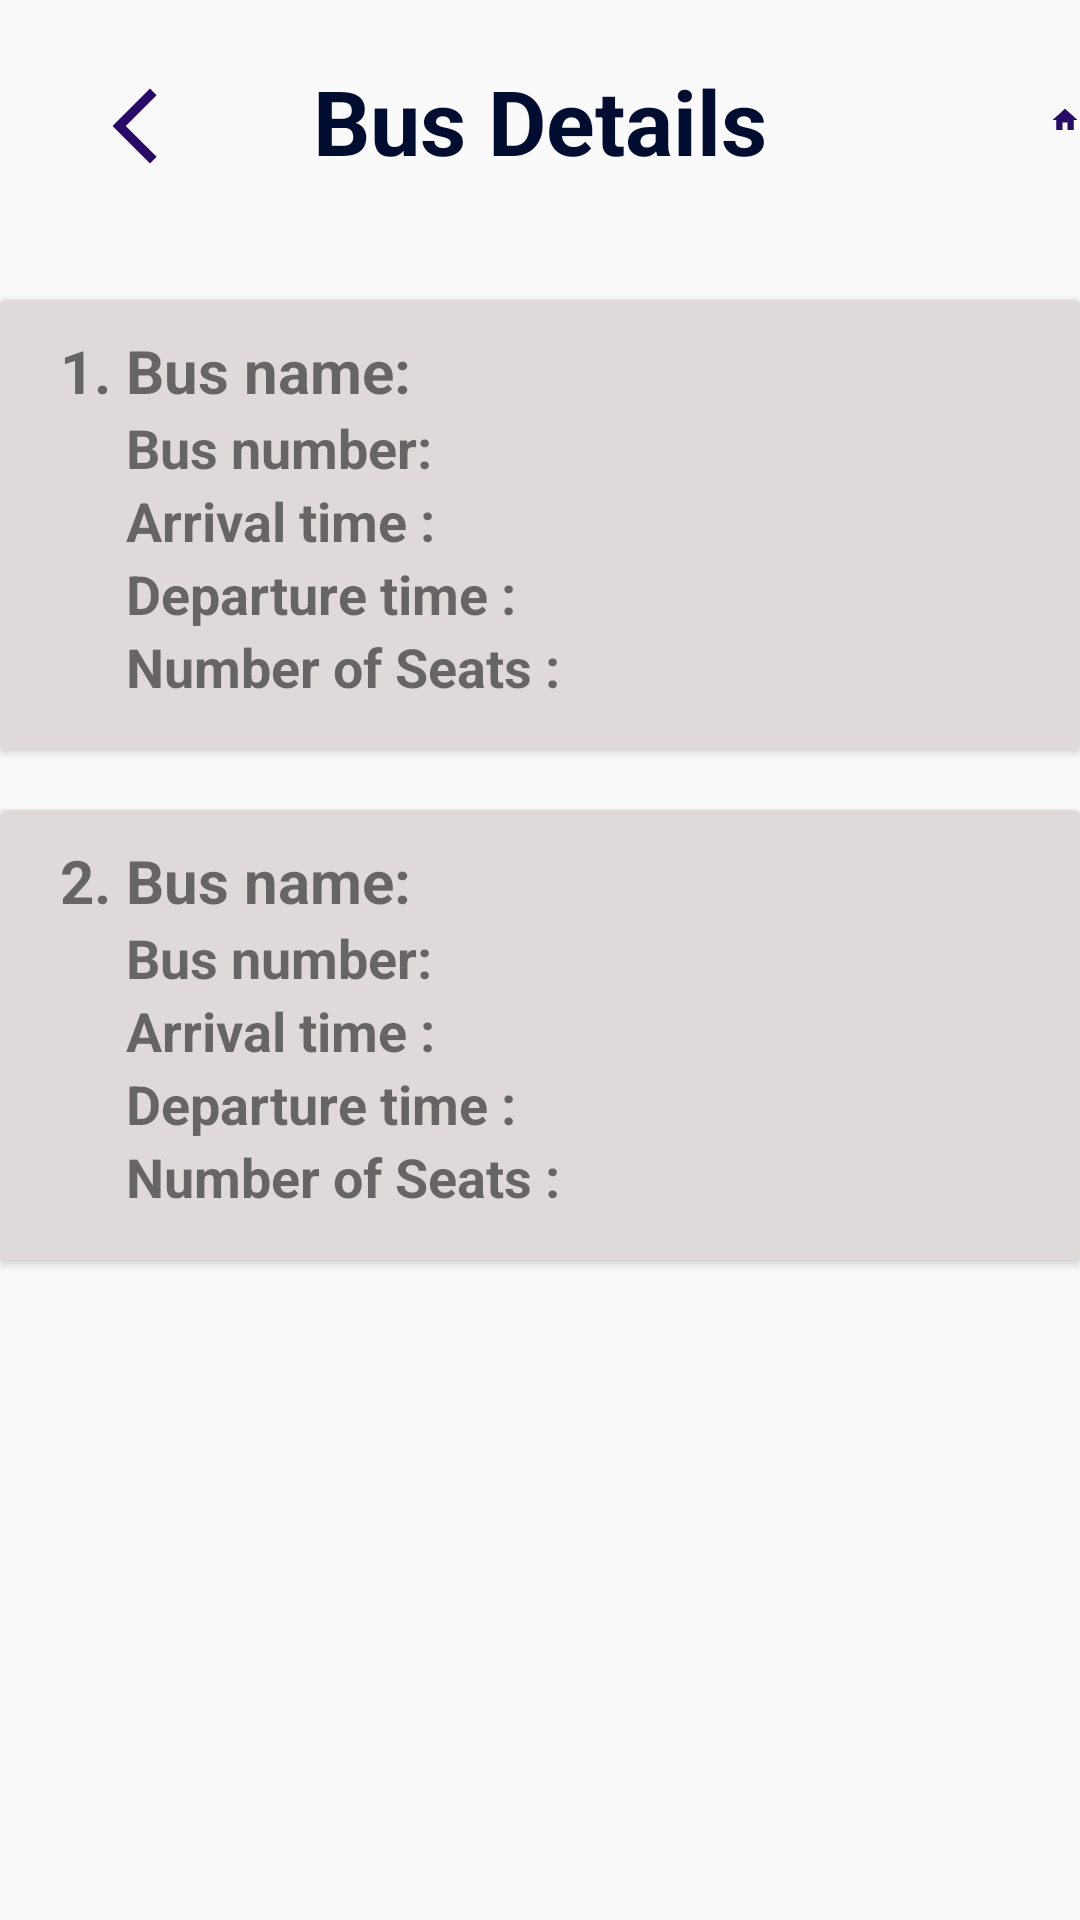

Screen size 1080px×1920px. Icon name, then its center in pixels as [x,y]:
arrow back: [134,126]
home: [1065,119]
